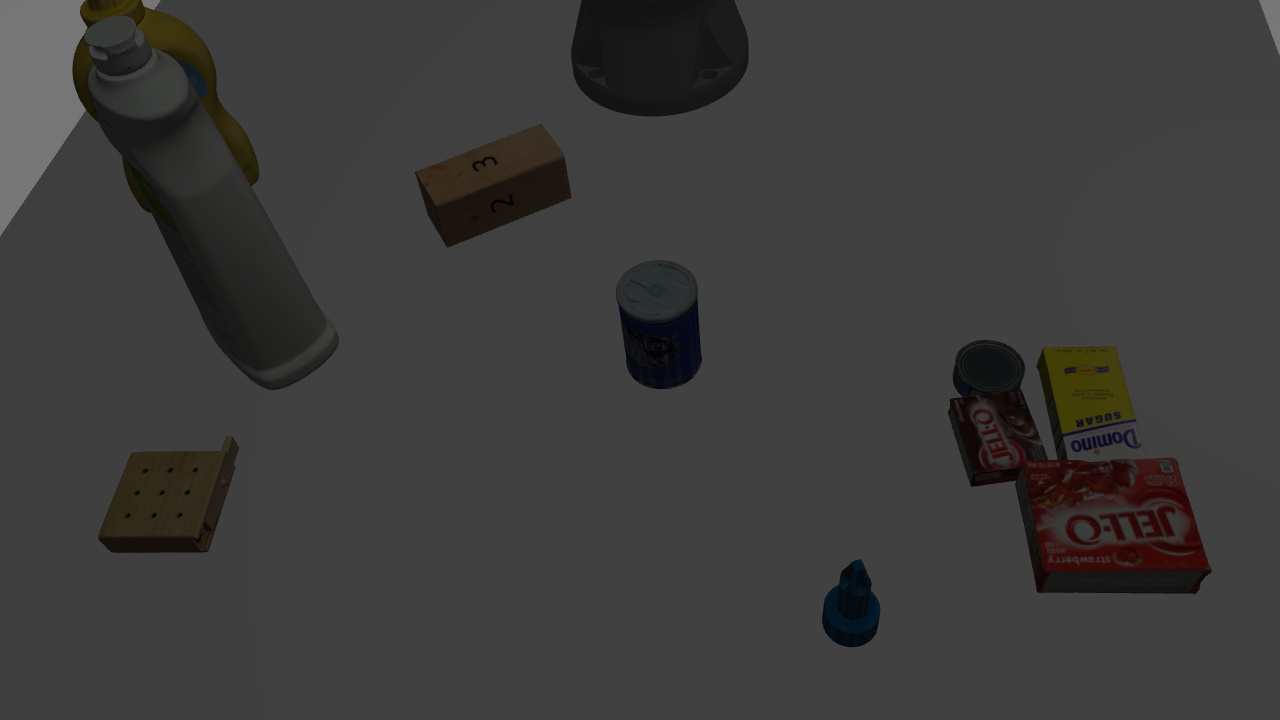gelatin_box: (1013, 452, 1213, 598)
master_chef_can: (614, 256, 710, 390)
mustard_bottle: (72, 2, 271, 192)
nine_hole_peg_test: (99, 431, 231, 554)
pudding_box: (944, 389, 1048, 490)
wood_block: (413, 122, 577, 243)
